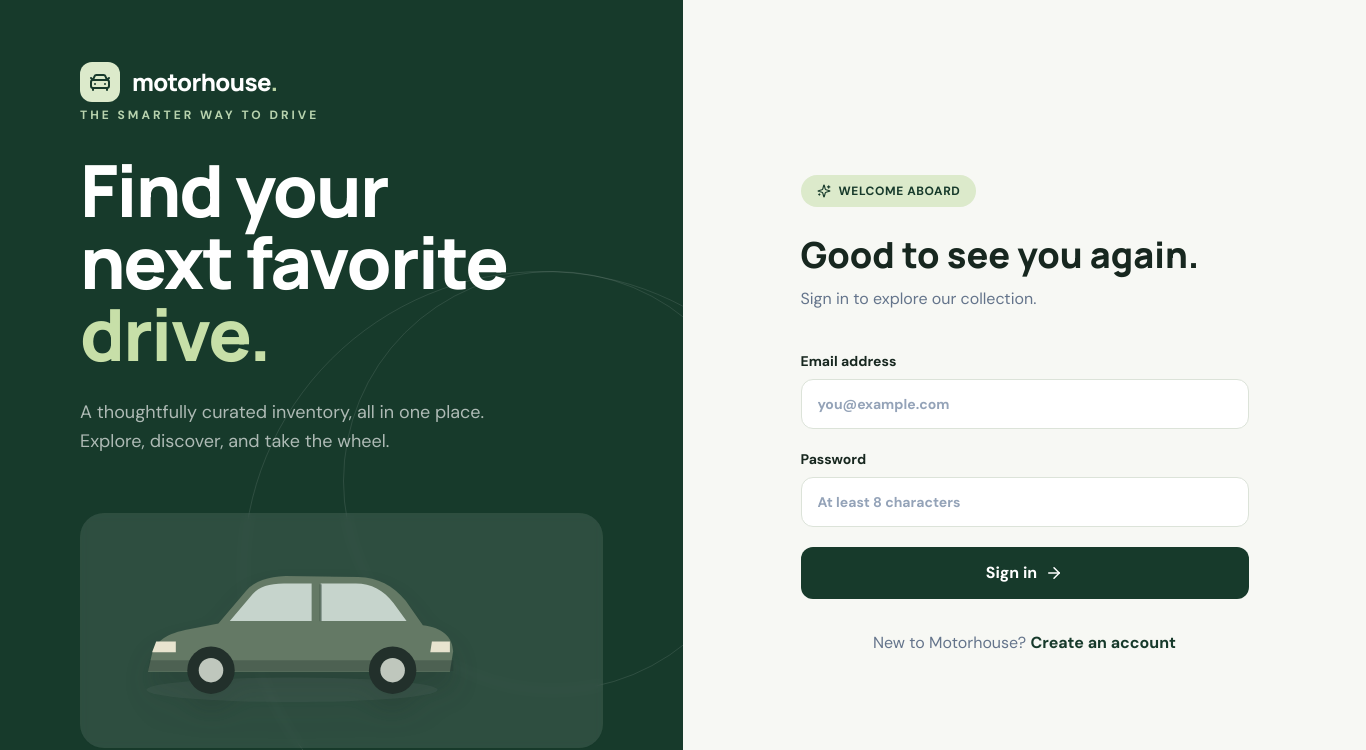
Test: registers with an optional admin invite code, signs in, and shows inventory
Click the button "Create an account": (1103, 643) [1030,631,1176,655]
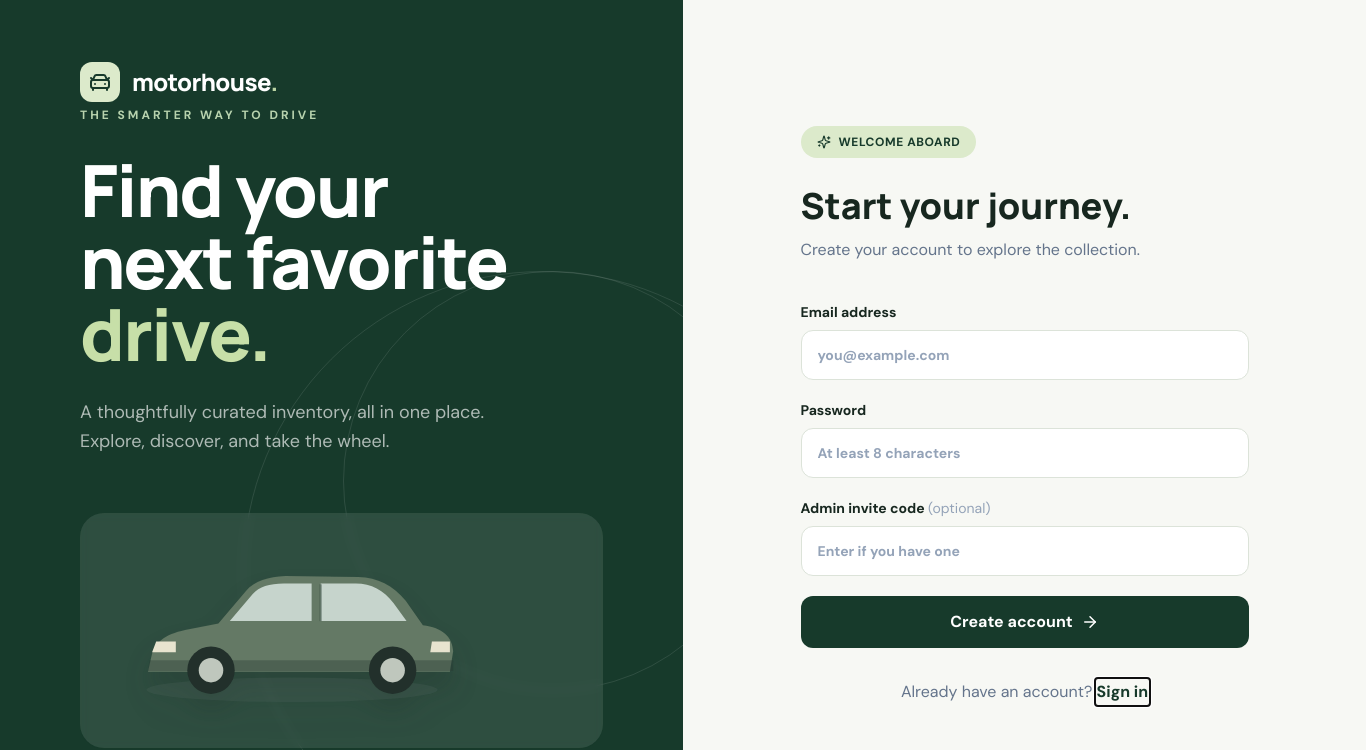
In the field labelled "Email address": (1024, 355) [800,330,1248,380], type "admin@example.com"
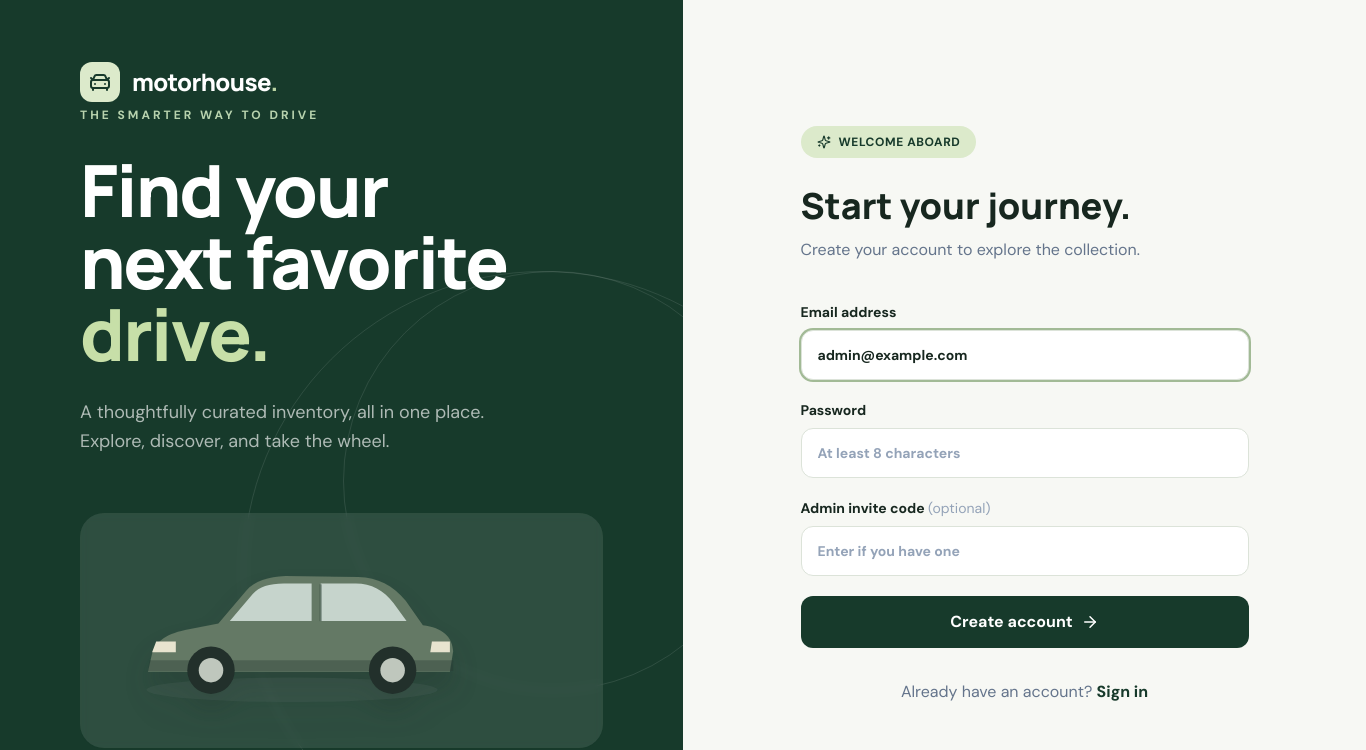
In the password field labelled "Password": (1024, 453) [800,428,1248,478], type "longpassword"
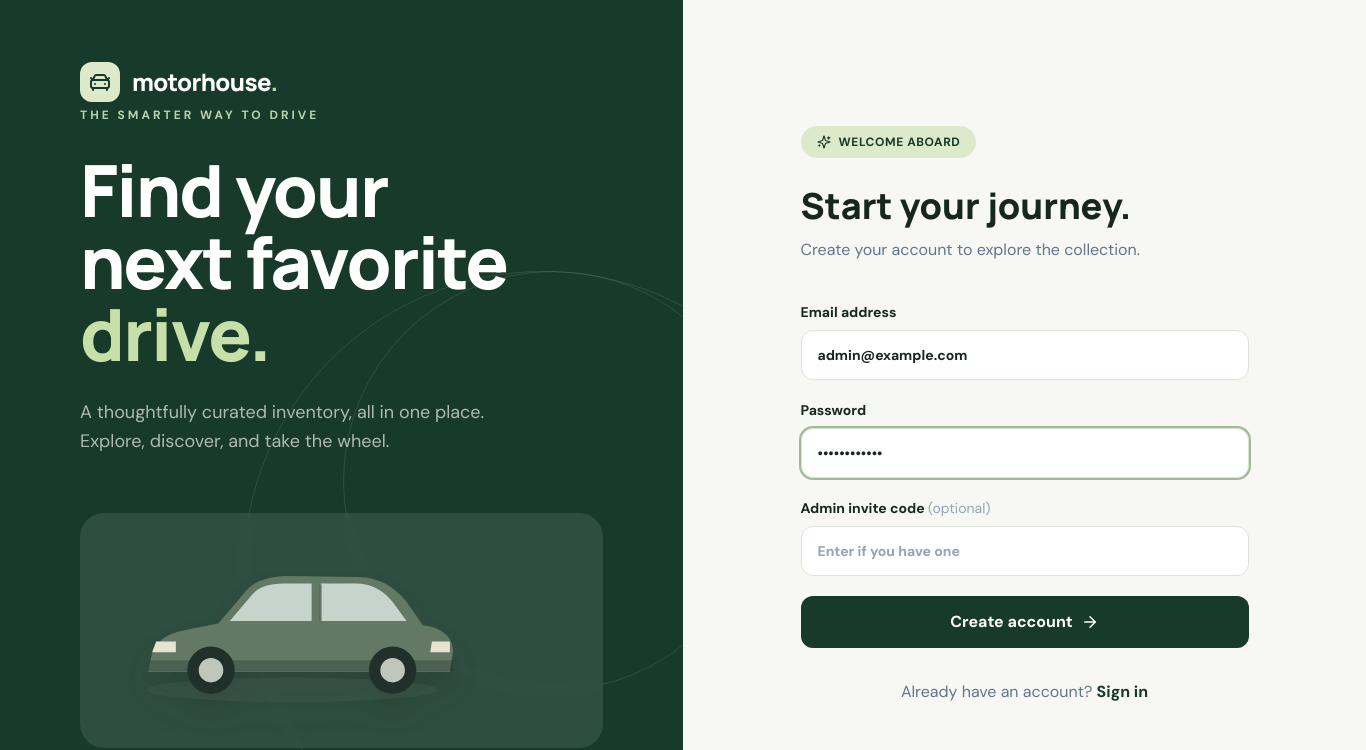
In the field labelled "Admin invite code (optional)": (1024, 551) [800,526,1248,576], type "private-code"
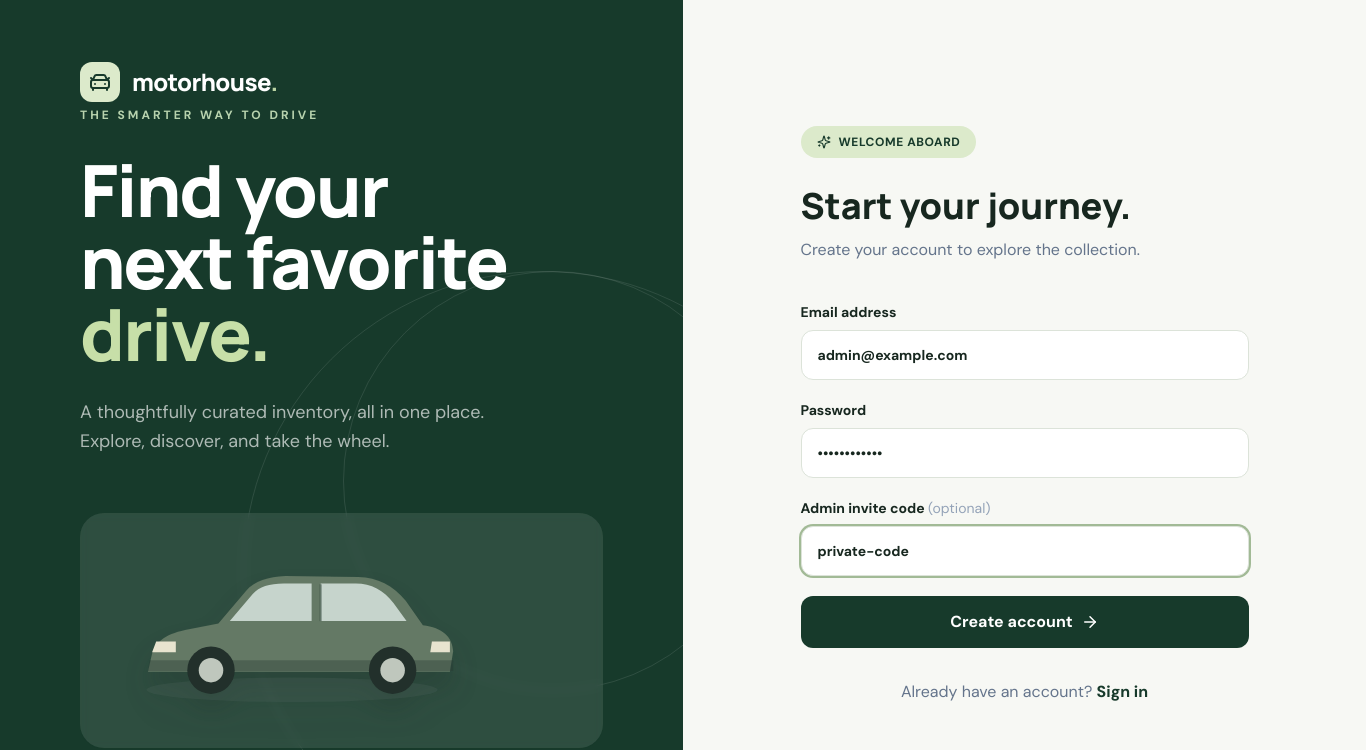
Click the button "Create account": (1024, 622) [800,596,1248,648]
(page scrolled)
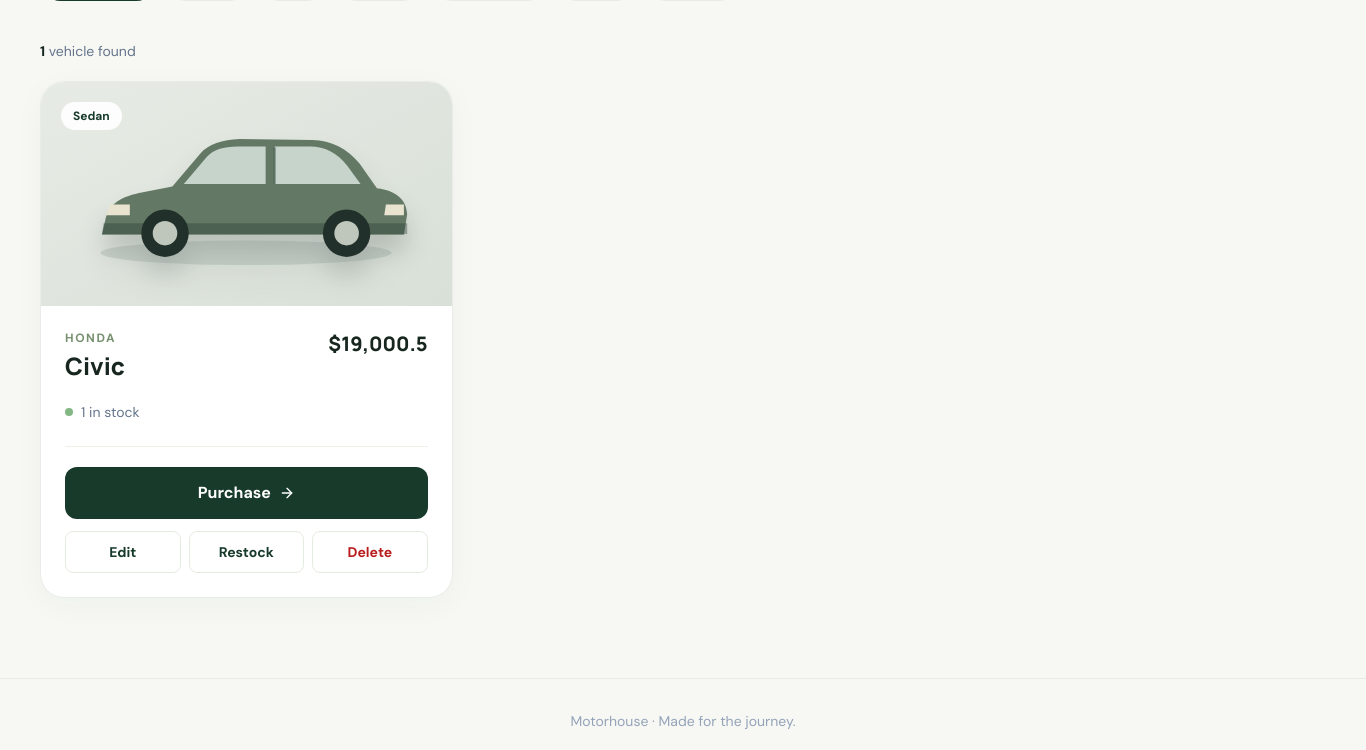
Expected: the heading "Civic" is shown, [65,350,125,382]
